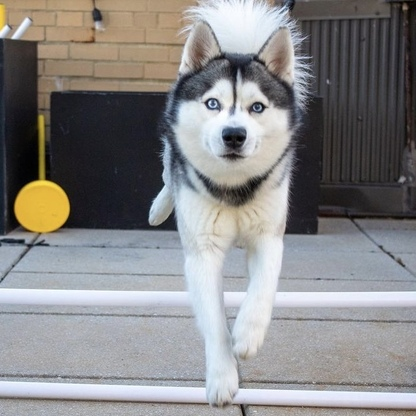husky: (142, 1, 316, 412)
